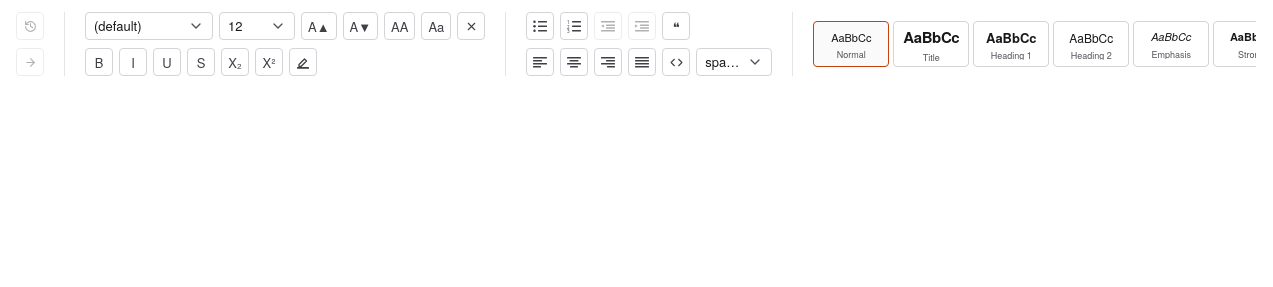
Test: the formatting ribbon › sets line spacing, and shows the spacing the caret is already in
Click the dropdown named "line spacing": [734, 62] box [696,48,772,76]
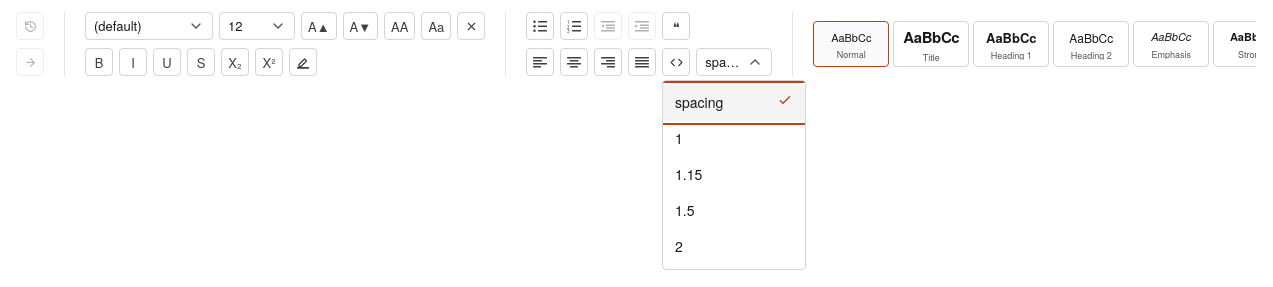
Click the option "1.5": [685, 210] box [675,200,694,220]
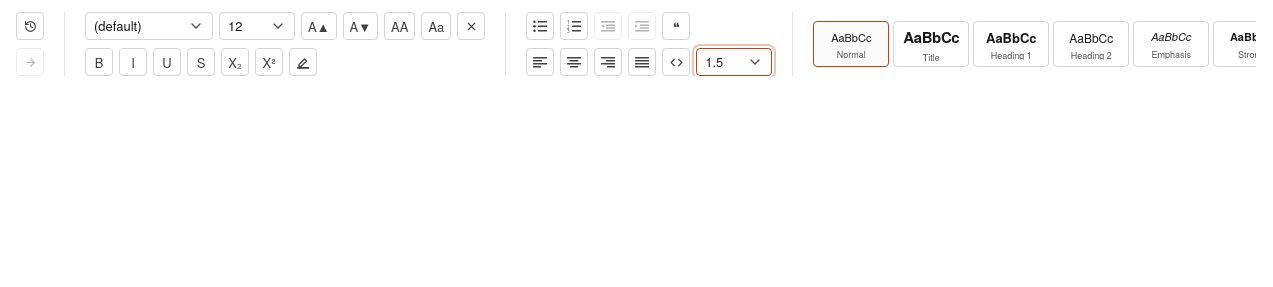
Expected: the list is gone
Click the dropdown named "line spacing": [734, 62] box [696,48,772,76]
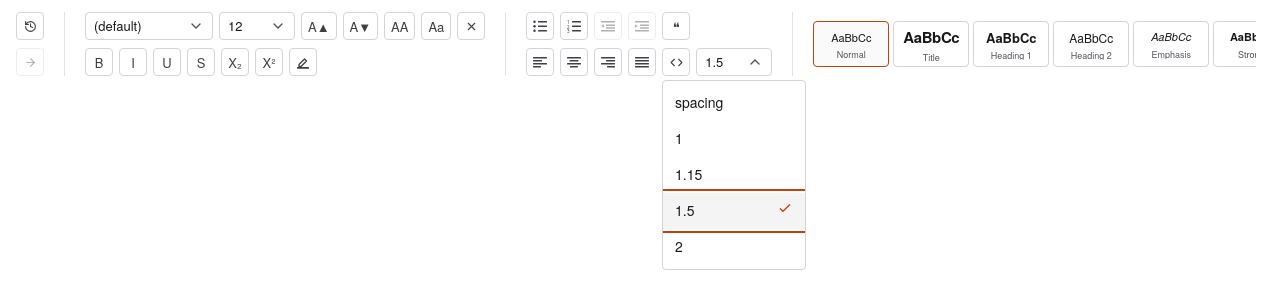
Click the option "spacing": [699, 102] box [675,92,723,112]
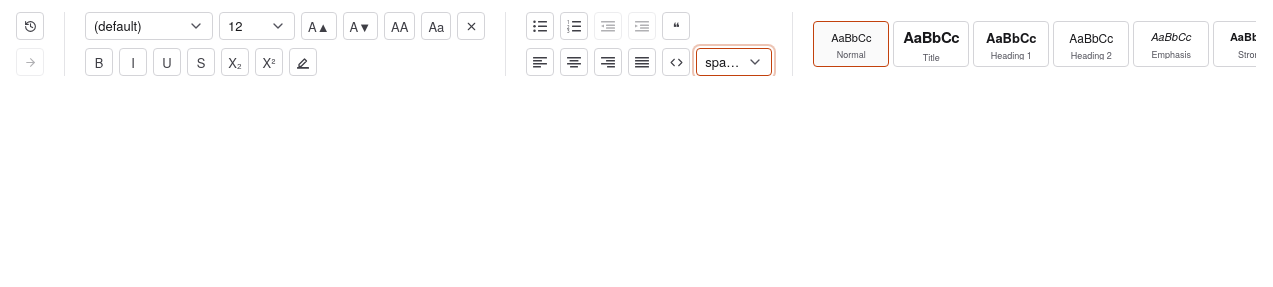
Expected: the list is gone
